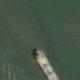ship: (33, 61, 62, 64)
